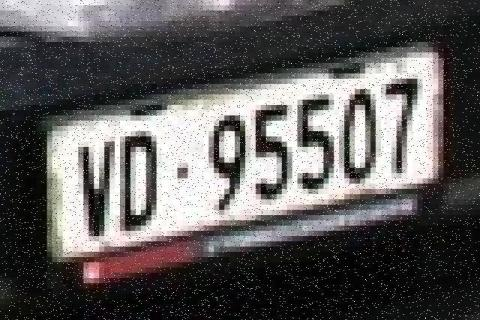LicensePlate: (36, 41, 463, 265)
